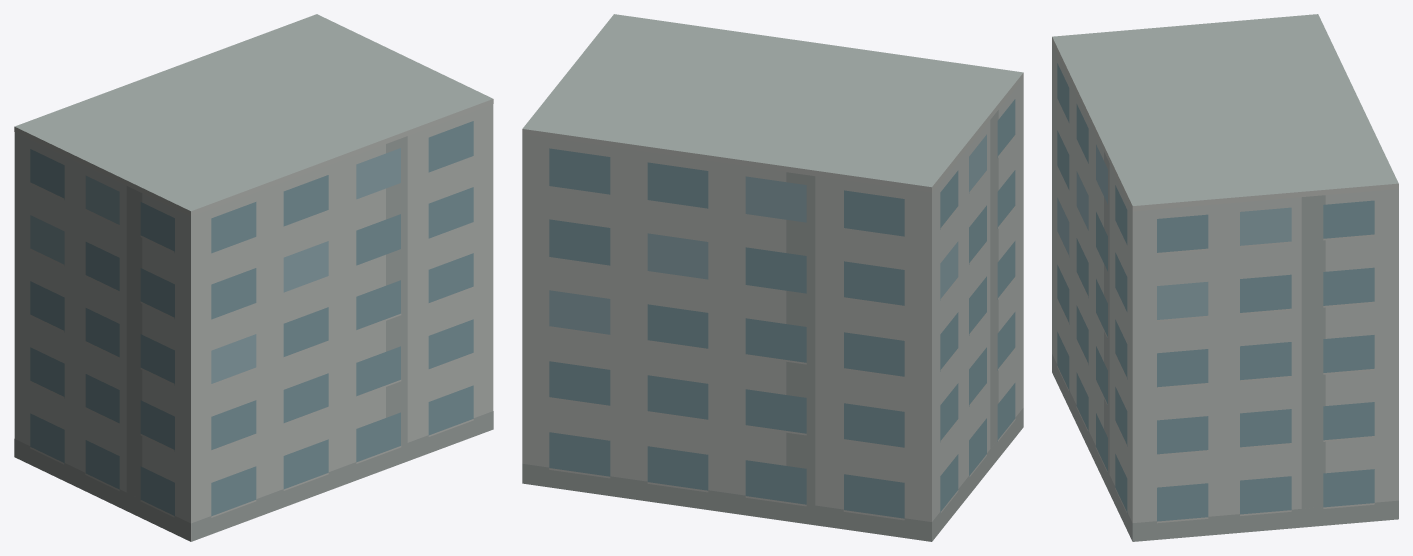
Rendered from residential-2d16fae3-30c8-43e9-aed4-771e9e4ad7b6.glb.
3 views of the same model, side by side, from view 1: azimuth 30°, elevation 25°; view 2: azimuth 150°, elevation 25°; view 3: azimuth 270°, elevation 25° (orthographic). The views are drawn at different scales.
Parts seen in each view (by area): view 1: residential-2d16fae3-30c8-43e9-aed4-771e9e4ad7b6.tmp; view 2: residential-2d16fae3-30c8-43e9-aed4-771e9e4ad7b6.tmp; view 3: residential-2d16fae3-30c8-43e9-aed4-771e9e4ad7b6.tmp.
Part boxes in pixels (x1=…): residential-2d16fae3-30c8-43e9-aed4-771e9e4ad7b6.tmp: x1=14, y1=14, x2=493, y2=541; residential-2d16fae3-30c8-43e9-aed4-771e9e4ad7b6.tmp: x1=522, y1=14, x2=1023, y2=541; residential-2d16fae3-30c8-43e9-aed4-771e9e4ad7b6.tmp: x1=1052, y1=14, x2=1398, y2=541.
Size of the model in its own units: 18.72 by 15.25 by 14.28.
